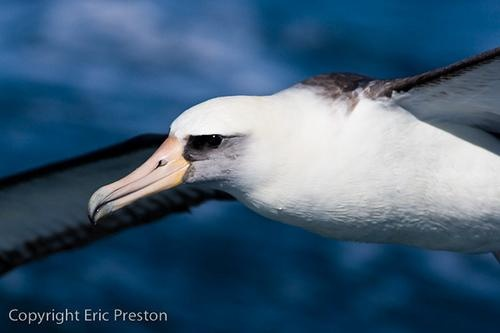bird: (1, 47, 500, 277)
